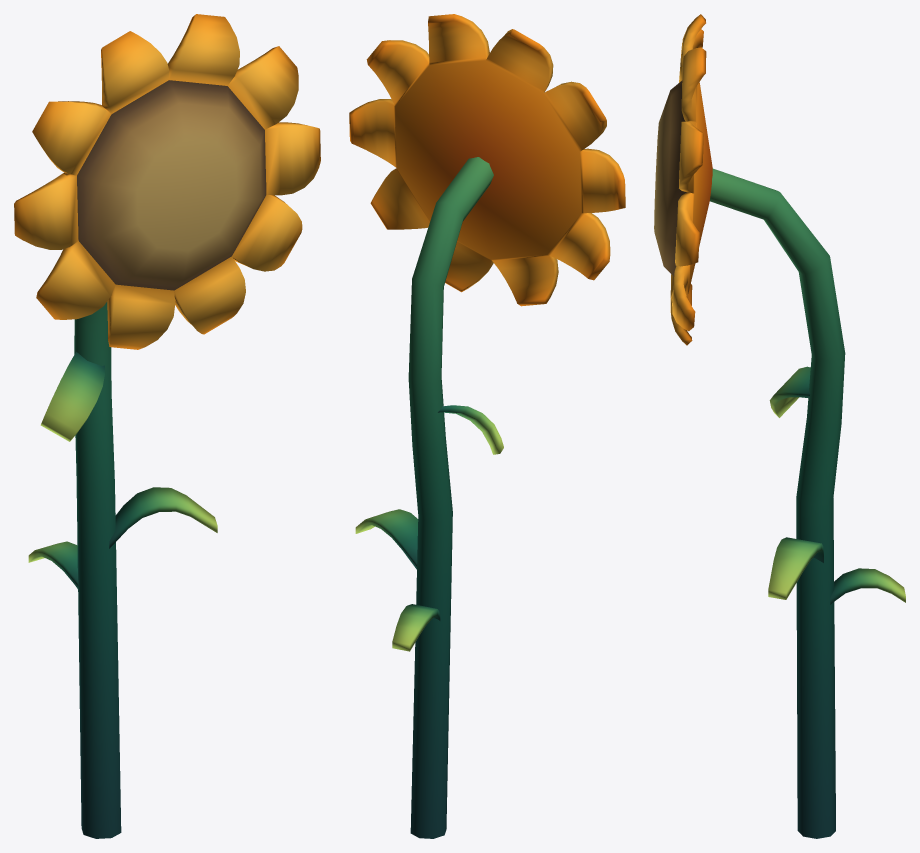
The model's file is SunFlower.fbx.
3 views of the same model, side by side, from view 1: azimuth 30°, elevation 25°; view 2: azimuth 150°, elevation 25°; view 3: azimuth 270°, elevation 25° (orthographic). The views are drawn at different scales.
Visible parts, largest first — view 1: Sunflower; view 2: Sunflower; view 3: Sunflower.
Boxes of the visible parts, left/top/right/bottom form: Sunflower: left=14, top=14, right=320, bottom=838; Sunflower: left=349, top=14, right=625, bottom=838; Sunflower: left=654, top=14, right=905, bottom=838.
Bounding box in the file's own units: 0.2772 × 0.7387 × 0.2111.
